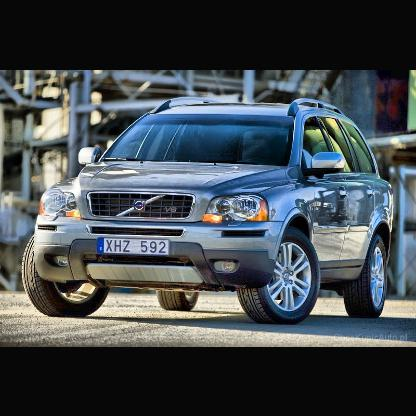Volvo XC90 SUV 2007: (22, 97, 394, 324)
